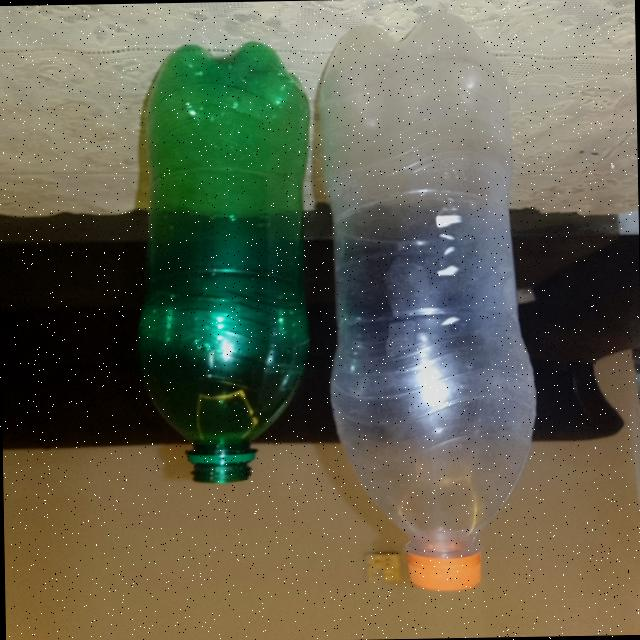bottle: (304, 6, 550, 598), (120, 33, 322, 504)
cap: (394, 539, 490, 592)
